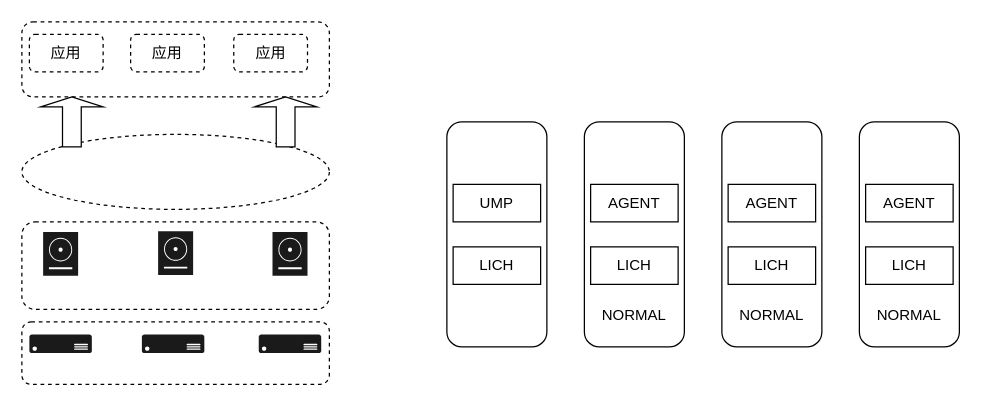
This 981x406 diagram has some shape labels left out. Here are the shapes that lost their labels. From the top down, the box of each, then its label:
(21, 133, 329, 209): 存储资源池
(446, 121, 547, 347): ADMIN
(21, 221, 329, 309): 硬盘集群
(21, 321, 329, 384): x86服务器
